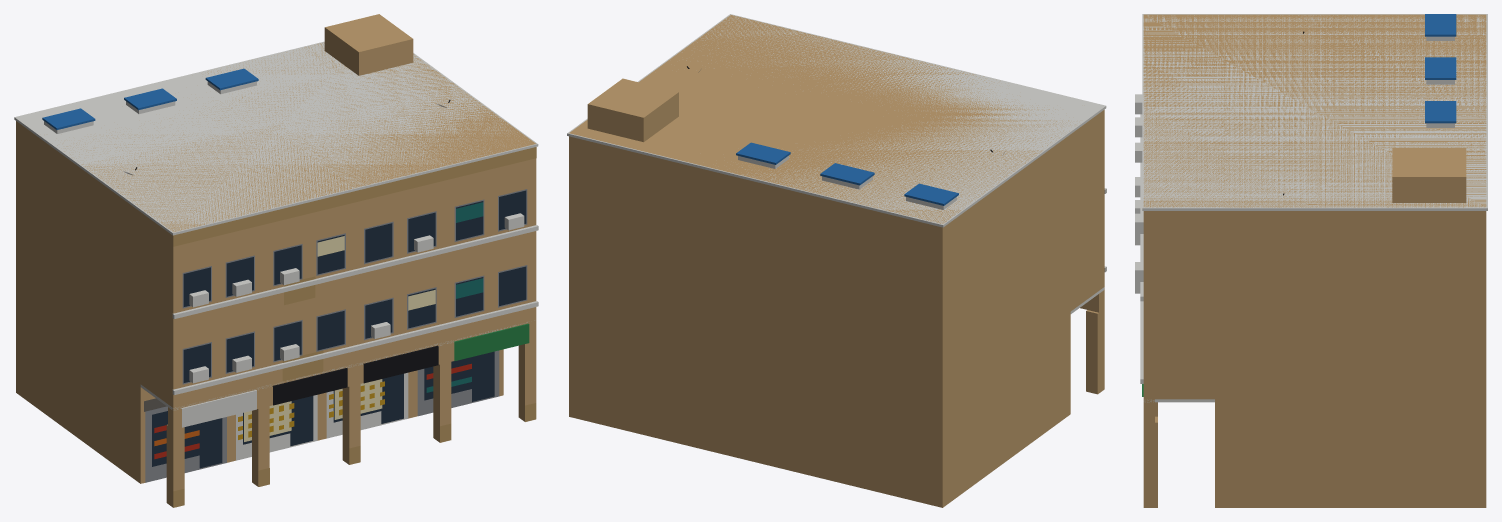
File: bld_deira-arcade_a.113da65db12a.glb
3 views of the same model, side by side, from view 1: azimuth 30°, elevation 25°; view 2: azimuth 150°, elevation 25°; view 3: azimuth 270°, elevation 25° (orthographic). The views are drawn at different scales.
Visible parts, largest first — view 1: body; view 2: body; view 3: body.
Boxes of the visible parts, x1,y1,x2,y2 form: body: (14,14,538,507); body: (567,14,1106,507); body: (1135,14,1487,507).
Bounding box in the file's own units: 16.1 × 12.6 × 12.35.
